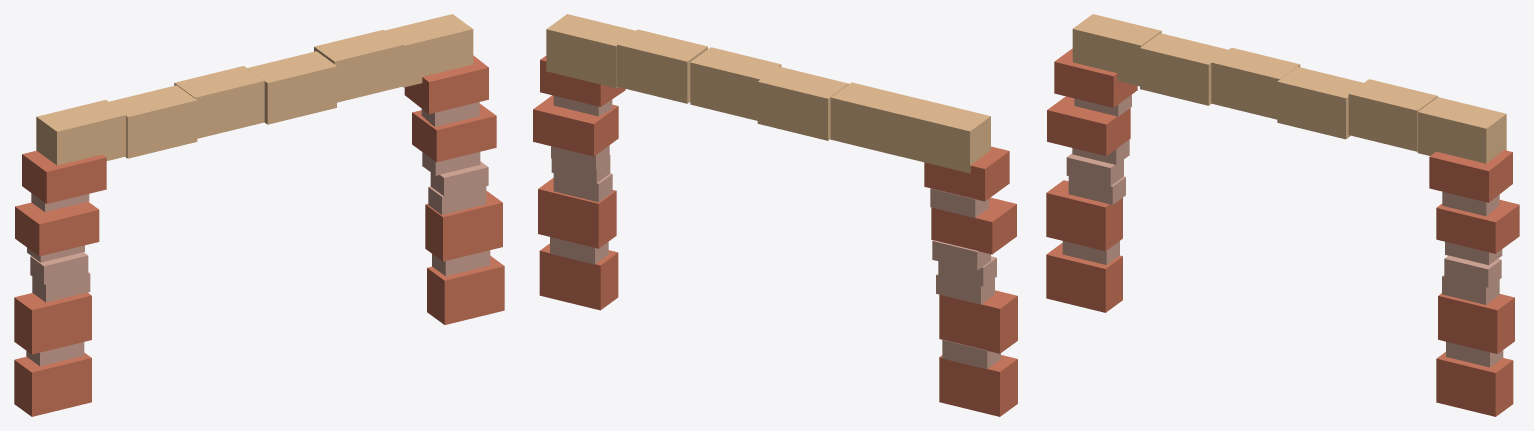
The model's file is Egypt_Enterance_Blocks.FBX.
3 renders of one model, left to right at view 1: azimuth 30°, elevation 25°; view 2: azimuth 150°, elevation 25°; view 3: azimuth 330°, elevation 25°, orthographic. The views are drawn at different scales.
Parts seen in each view (by area): view 1: Egypt_Enterance_Blocks; view 2: Egypt_Enterance_Blocks; view 3: Egypt_Enterance_Blocks.
Boxes of the visible parts, left/top/right/bottom form: Egypt_Enterance_Blocks: left=14, top=14, right=504, bottom=416; Egypt_Enterance_Blocks: left=533, top=14, right=1017, bottom=416; Egypt_Enterance_Blocks: left=1046, top=14, right=1519, bottom=416.
Bounding box in the file's own units: 752 × 434 × 88.97.
